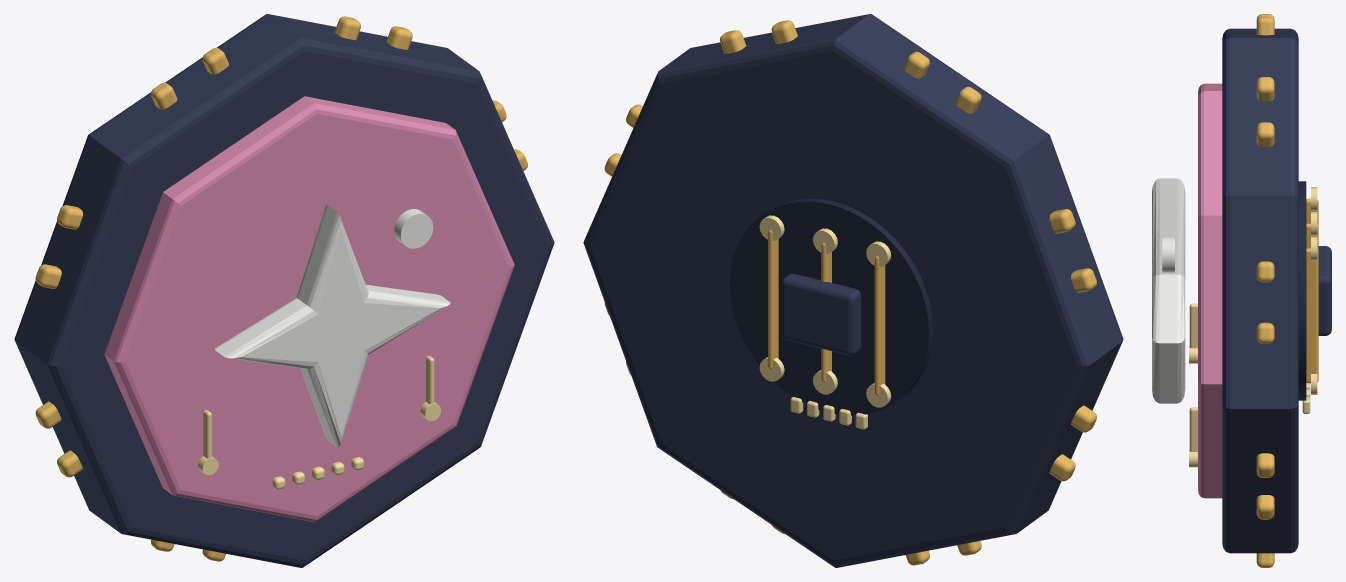
File: chip-prompt.glb
3 views of the same model, side by side, from view 1: azimuth 30°, elevation 25°; view 2: azimuth 150°, elevation 25°; view 3: azimuth 270°, elevation 25° (orthographic). The views are drawn at different scales.
Visible parts, largest first — view 1: component (×4); view 2: component (×6); view 3: component (×17).
Part boxes in pixels (<box>): component (×4): <box>14,14,554,567</box>; component (×6): <box>583,14,1123,567</box>; component (×17): <box>1152,16,1331,567</box>.
Size of the model in its own units: 0.0437 by 0.0437 by 0.0141.
